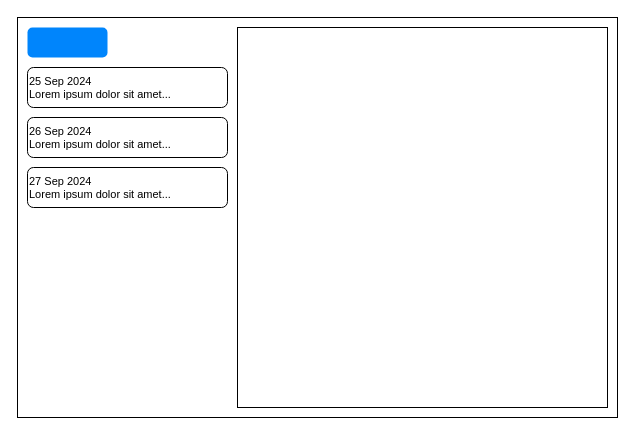
Image size: 635x435. Some labels were removed from this diagram. The shapes that lost their labels are listed below. From the top down, each one's centre as x and y in pixels, then its label:
point 67,42: Create
point 422,217: Diary content will be here.
